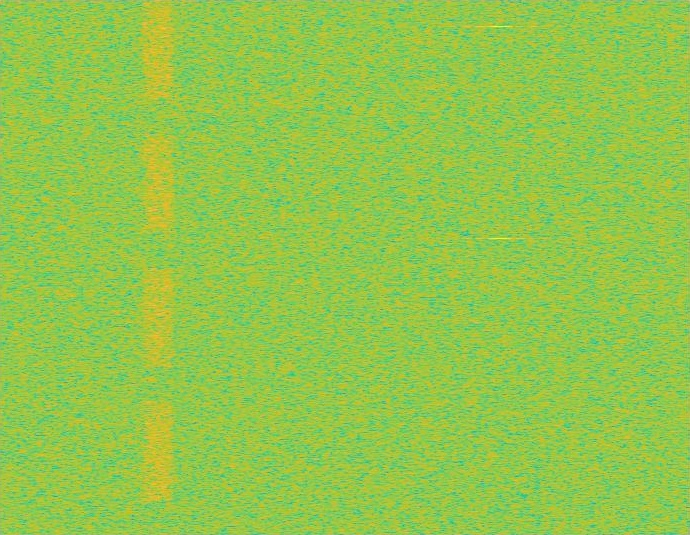5G: (141, 0, 176, 534)
Radar: (493, 0, 507, 534)
